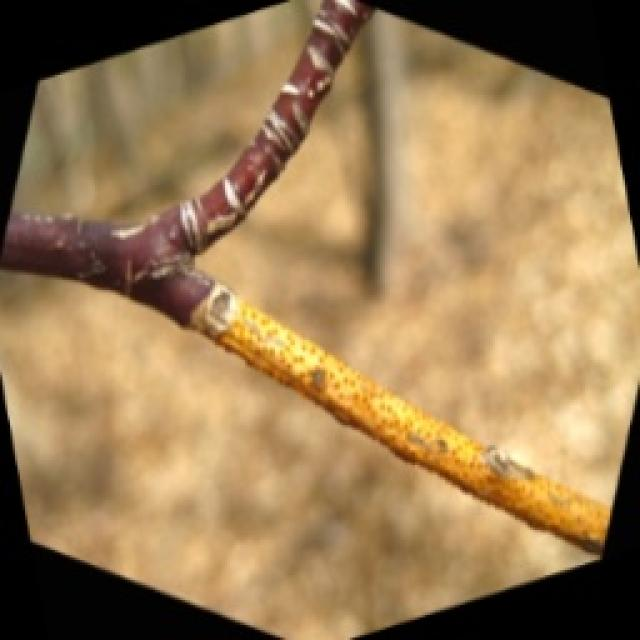Golden_canker: (190, 280, 612, 558)
